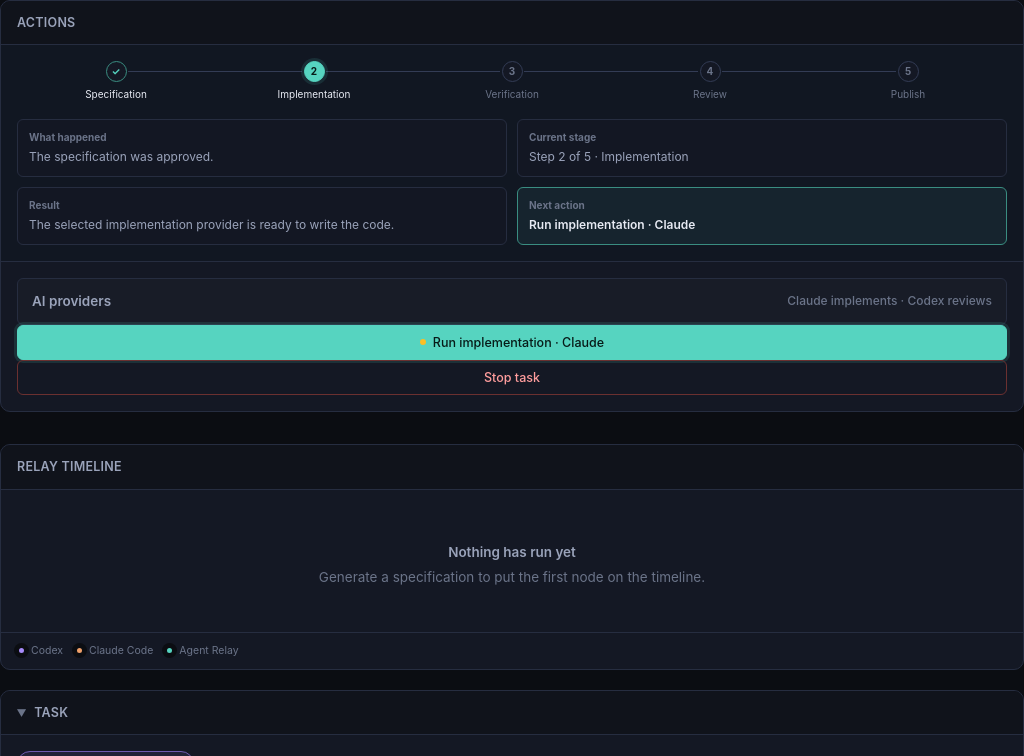
Scenario: Run screen — Stop task outcomes › after a Stop that failed, shows the error, clears the pending state, and lets the operator retry
Click the button "Stop task" at (512, 378), box left=17, top=360, right=1007, bottom=395
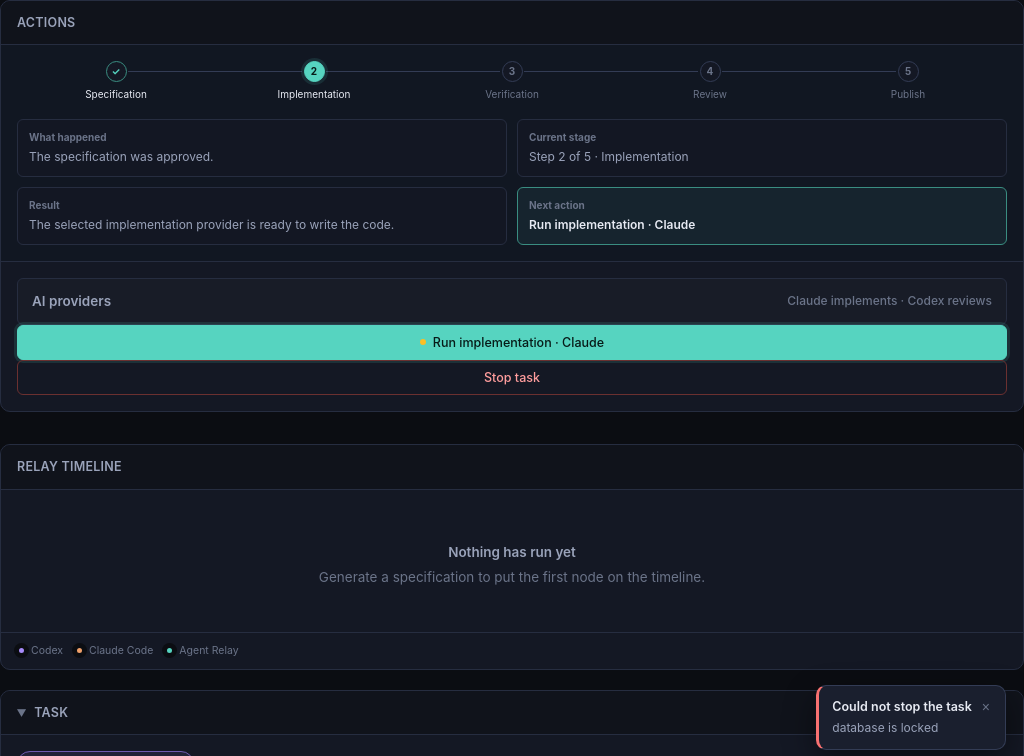
Check: the text "Could not stop the task" is shown, box left=832, top=699, right=972, bottom=714
Click the button "Stop task" at (512, 378), box left=17, top=360, right=1007, bottom=395
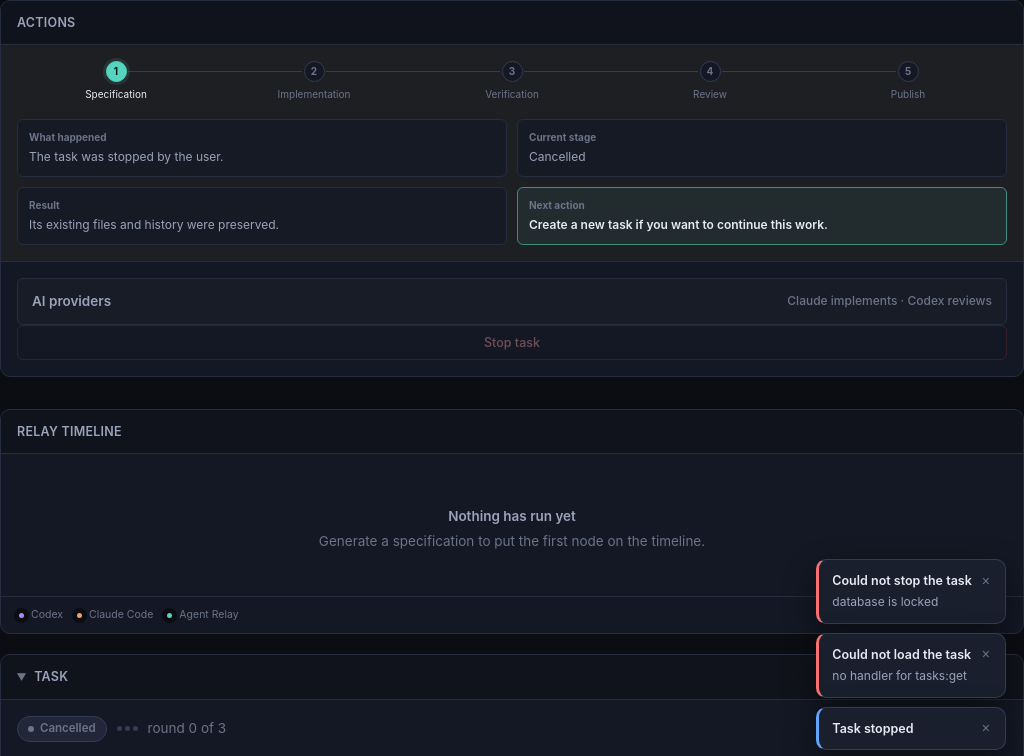
Check: the text "Task stopped" is shown, box left=832, top=721, right=914, bottom=736
